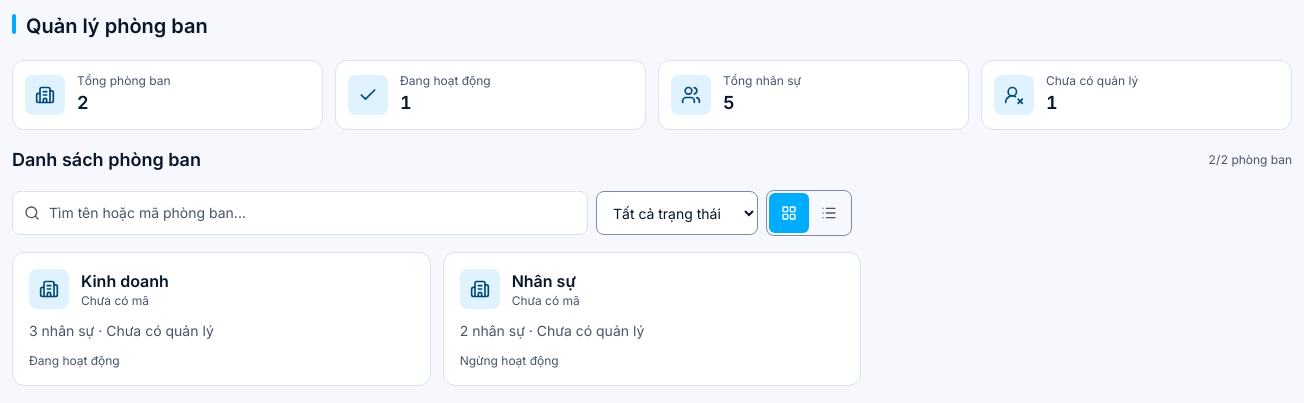
Test case: HrDepartmentManager inline presentation › shows summary and filters in read-only mode without edit controls
The width and height of the screenshot is (1304, 403).
Check: the text "Tổng nhân sự" is shown, box [723,73,801,89]
Select "Ngừng hoạt động" in the dropdown named "Lọc trạng thái phòng ban" at (677, 213), box [596,191,758,235]
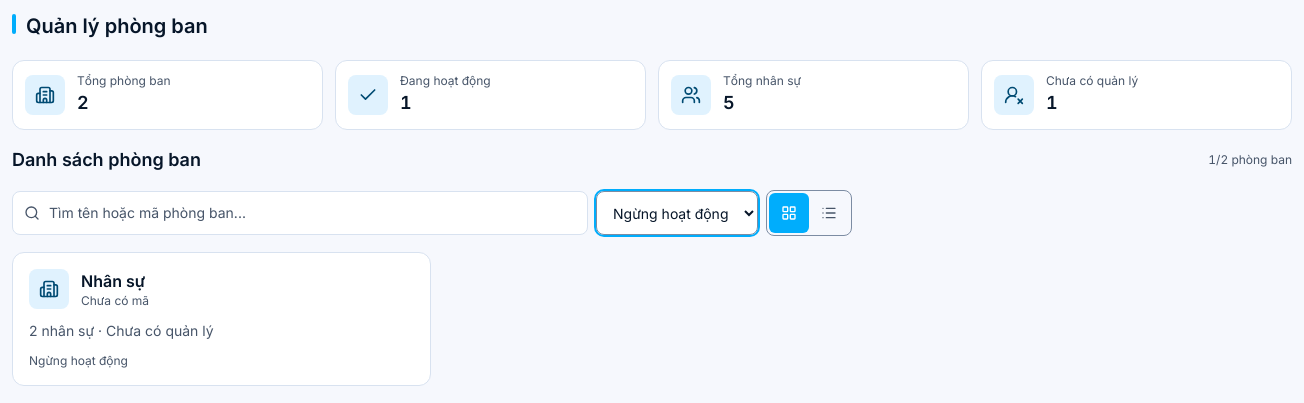
Check: the text "Nhân sự" is shown, box [81,271,145,291]
Check: the text "Kinh doanh" is gone
Click the button named "Xem dạng bảng".
click(829, 213)  # box [809,193,849,233]
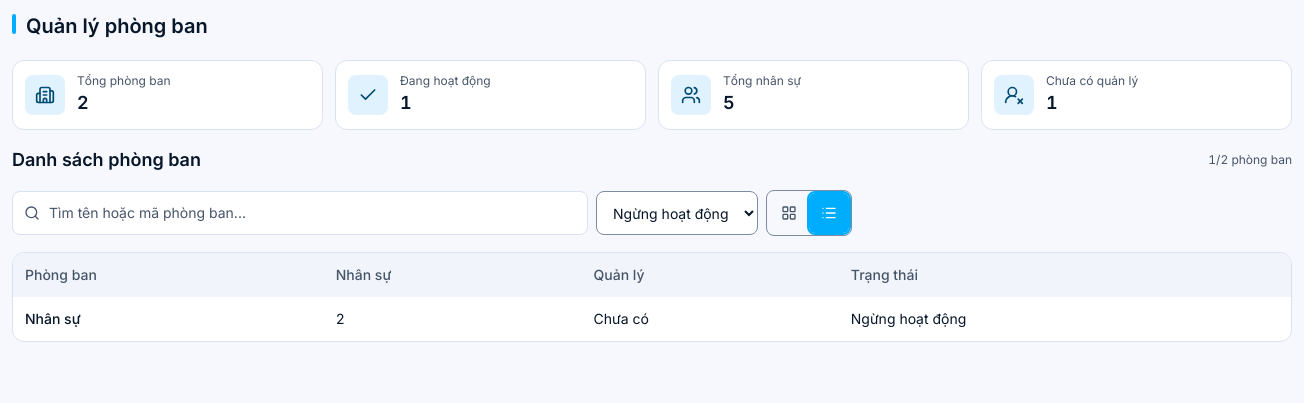
Check: the table is shown, box [13,253,1291,341]
